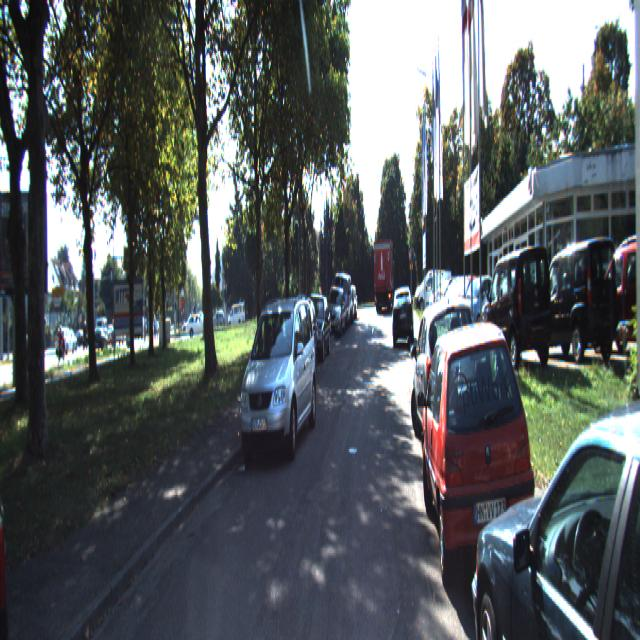Car: (462, 282, 640, 638), (419, 316, 542, 622), (236, 302, 319, 470), (410, 292, 481, 478), (584, 240, 639, 366), (458, 274, 500, 336), (299, 290, 332, 363), (392, 284, 414, 346), (324, 288, 346, 342)
DontCare: (58, 311, 115, 374), (419, 268, 456, 310), (338, 272, 356, 318), (186, 313, 206, 340), (212, 306, 224, 329)
Truck: (372, 242, 396, 317)
Van: (534, 226, 622, 368), (480, 246, 557, 372)
